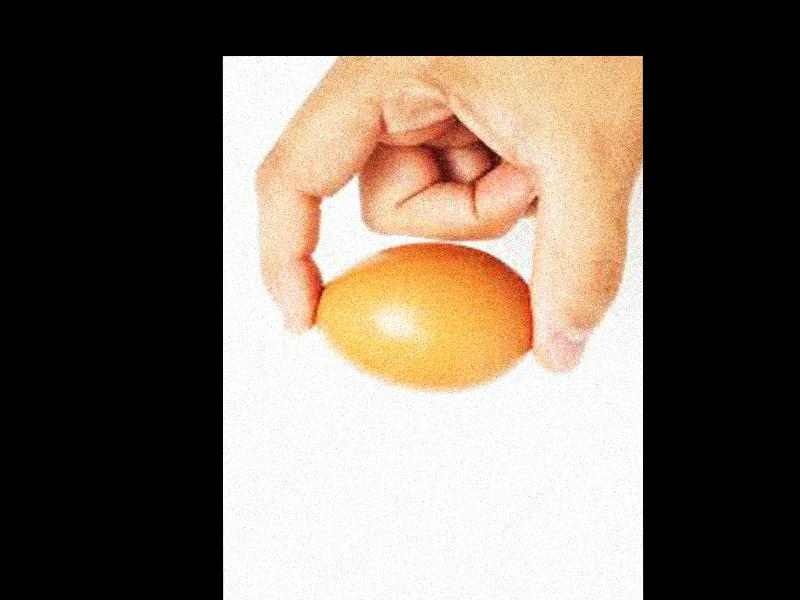Eggs: (310, 241, 533, 394)
